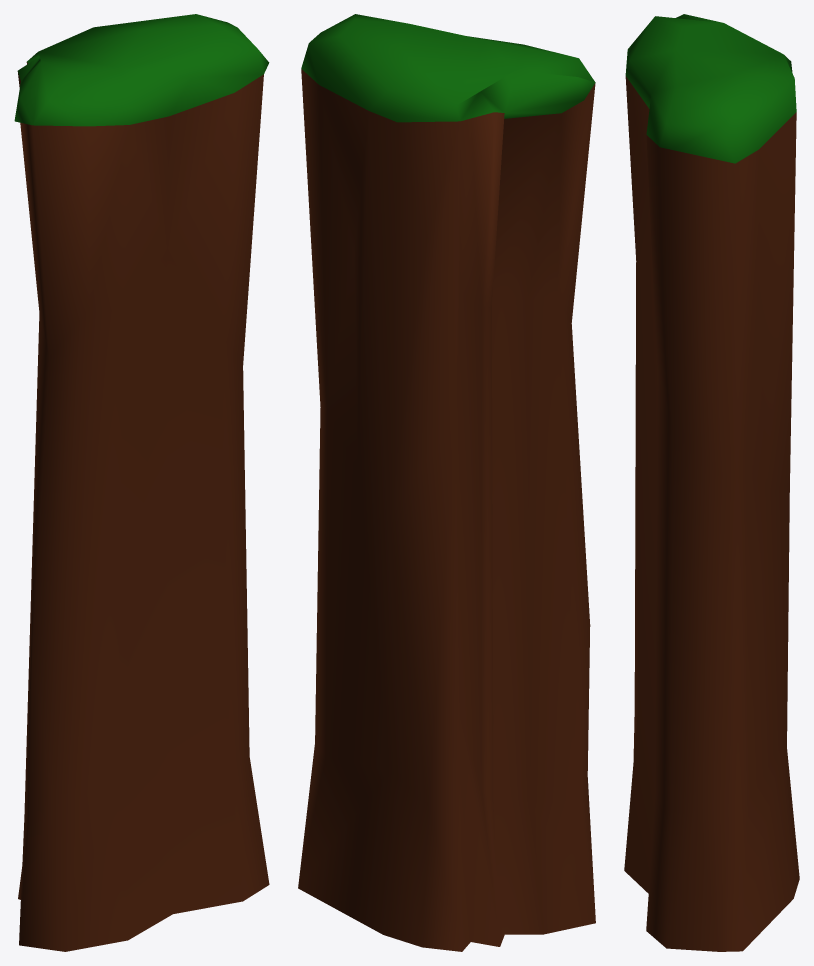
Rendered from land_05.fbx.
The picture shows the model from 3 angles, left to right: view 1: azimuth 30°, elevation 25°; view 2: azimuth 150°, elevation 25°; view 3: azimuth 270°, elevation 25°; orthographic projection. The views are drawn at different scales.
Visible parts, largest first — view 1: land_05; view 2: land_05; view 3: land_05.
Boxes of the visible parts, x1,y1,x2,y2 form: land_05: (14,14,269,951); land_05: (298,14,595,951); land_05: (624,14,799,951).
Size of the model in its own units: 1.04 by 0.63 by 3.3.
